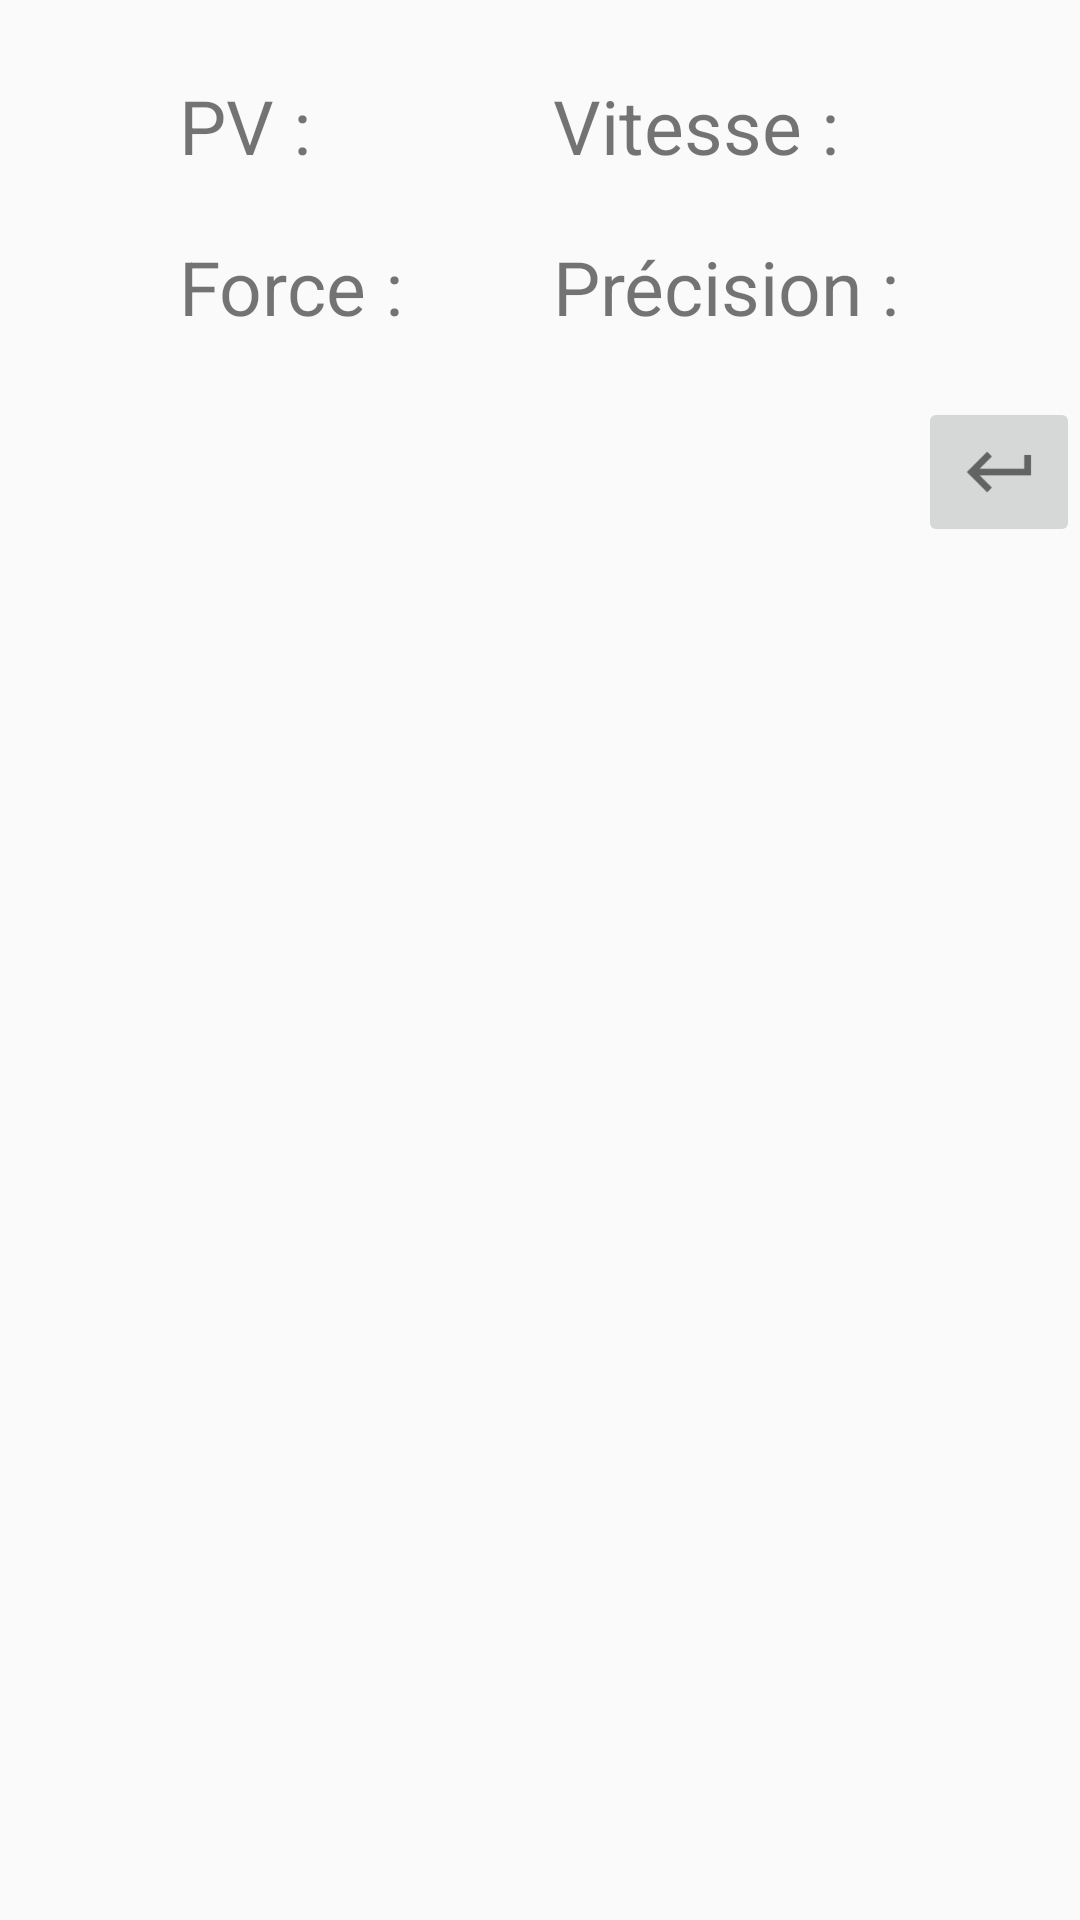

Point at icon controls on the screen. Image size 1080×1920, points as (x,y).
Retour: (999,472)
